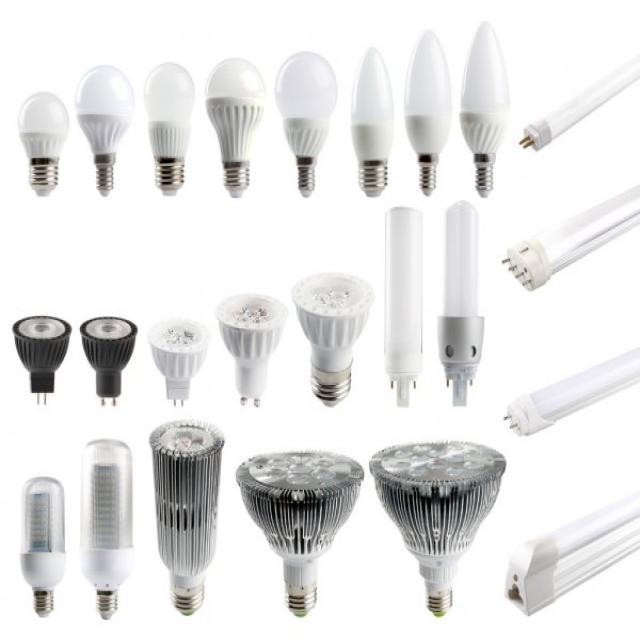bulb_off: (368, 440, 502, 618), (236, 450, 365, 621), (148, 422, 230, 616), (294, 270, 372, 410), (436, 208, 488, 408), (282, 45, 342, 200), (78, 438, 129, 617), (384, 210, 432, 400), (204, 60, 273, 192), (77, 63, 142, 198), (219, 290, 287, 407), (461, 22, 503, 201), (349, 50, 399, 194), (410, 36, 453, 199), (20, 470, 67, 615), (148, 61, 198, 193), (11, 88, 70, 196), (149, 316, 214, 406), (15, 313, 70, 403), (80, 319, 140, 401)
tubelight_off: (484, 485, 640, 627), (490, 336, 640, 445), (509, 175, 640, 295), (514, 51, 640, 151)
